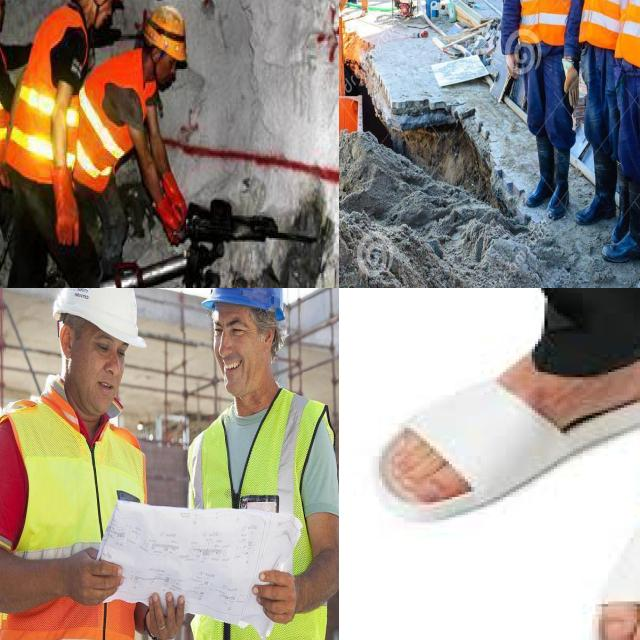No_Ear-Protection: (56, 317, 76, 368)
Sandals: (593, 418, 640, 640)
boots: (576, 134, 624, 230), (600, 165, 640, 269), (522, 134, 555, 208), (547, 136, 572, 222)
face_nomask: (74, 323, 131, 421), (206, 302, 266, 392), (151, 50, 180, 93), (81, 0, 113, 34), (0, 1, 8, 34)
hand_glove: (50, 163, 81, 249), (160, 170, 196, 219), (154, 200, 185, 243), (558, 58, 584, 108)
hand_noglove: (64, 541, 125, 612), (249, 567, 299, 628), (143, 584, 189, 640), (500, 49, 524, 86)
head_helmet: (54, 288, 150, 351), (145, 0, 190, 56), (202, 288, 291, 315)
person: (2, 288, 153, 640), (191, 288, 324, 640), (15, 0, 136, 288), (81, 0, 212, 253), (510, 0, 581, 219), (580, 0, 631, 219), (0, 0, 13, 288)
vest: (187, 390, 338, 640), (0, 403, 152, 640), (71, 55, 166, 189), (19, 3, 90, 172), (580, 0, 635, 46), (0, 20, 16, 164), (514, 0, 573, 37)
